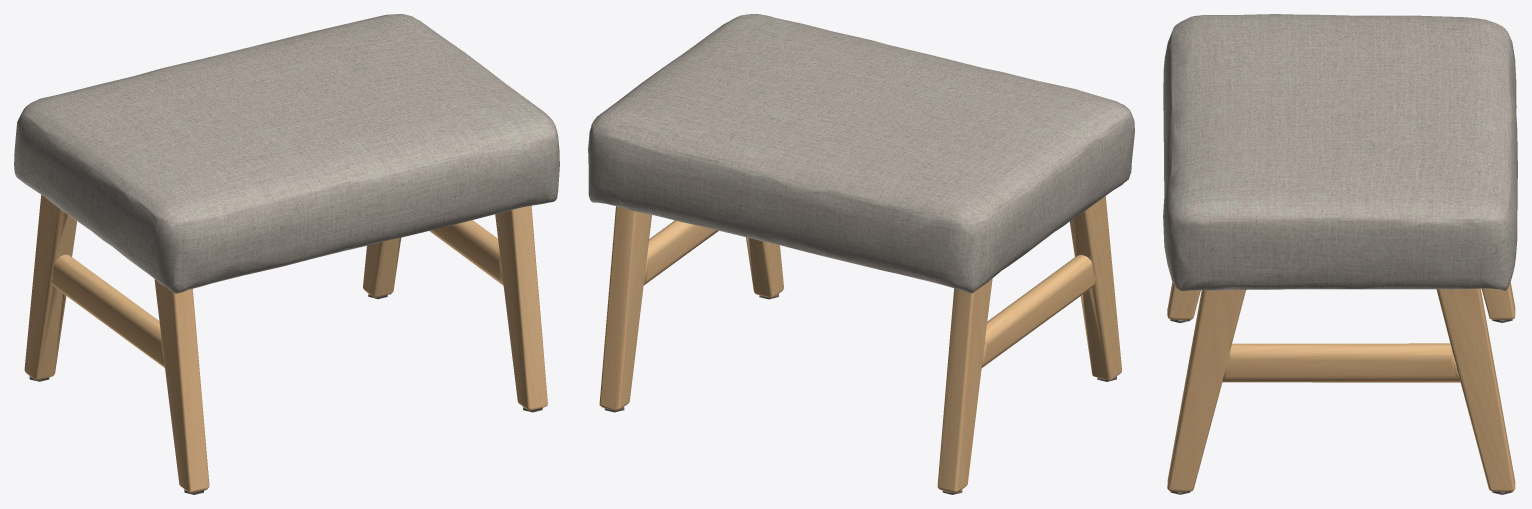
Rendered from ekenaset_podnozek_00624395.glb.
3 views of the same model, side by side, from view 1: azimuth 30°, elevation 25°; view 2: azimuth 150°, elevation 25°; view 3: azimuth 270°, elevation 25° (orthographic). The views are drawn at different scales.
Visible parts, largest first — view 1: ekenaset_podnozek_00624395; view 2: ekenaset_podnozek_00624395; view 3: ekenaset_podnozek_00624395.
Part boxes in pixels (box(x1,y1,x2,y2)): ekenaset_podnozek_00624395: box(14, 14, 559, 494); ekenaset_podnozek_00624395: box(588, 14, 1134, 494); ekenaset_podnozek_00624395: box(1163, 14, 1517, 494).
Bounding box in the file's own units: 0.5853 × 0.4026 × 0.4277.
1 material, 1 textured.
